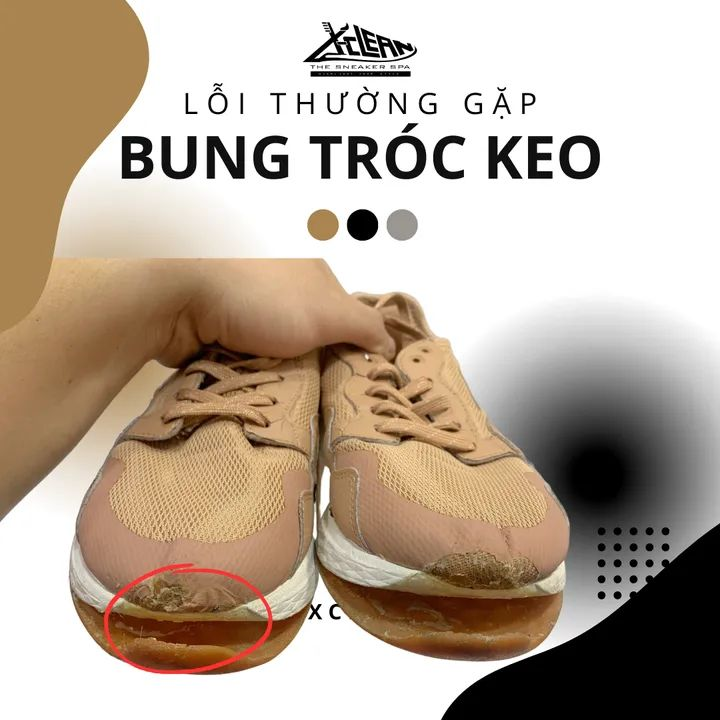bonding: (323, 582, 570, 650), (70, 602, 299, 661)
